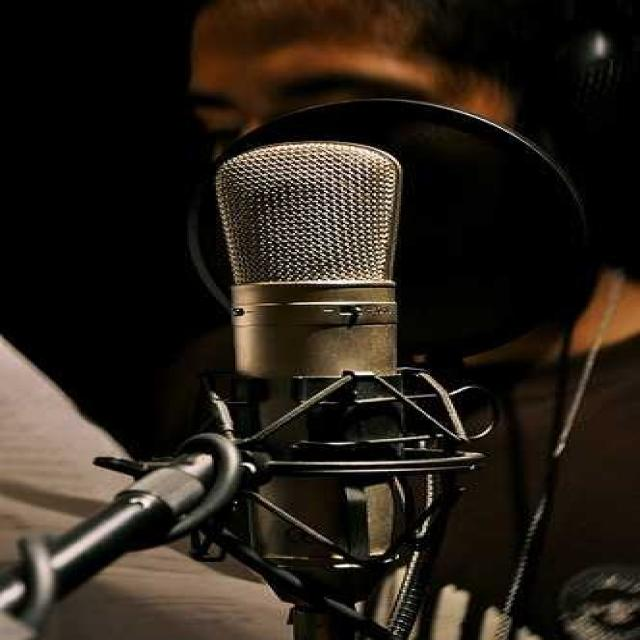microphone: (182, 120, 526, 496)
